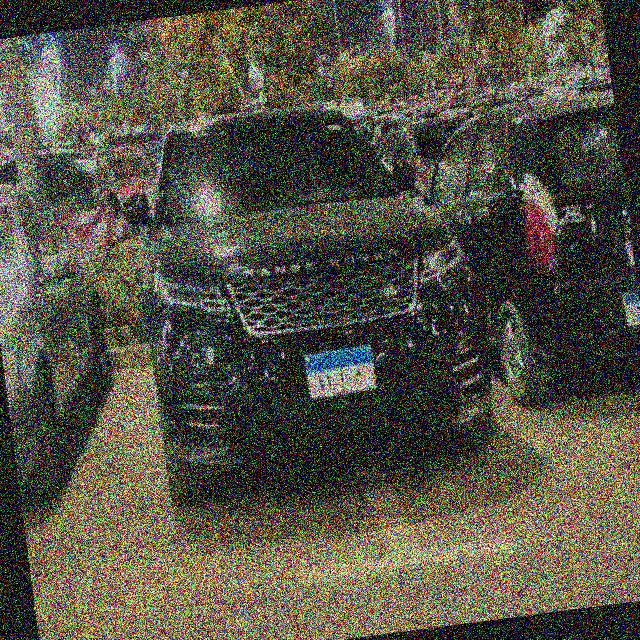License Plate: (301, 342, 381, 405)
